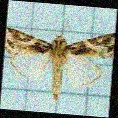Spodoptera litura: (4, 19, 112, 101)
